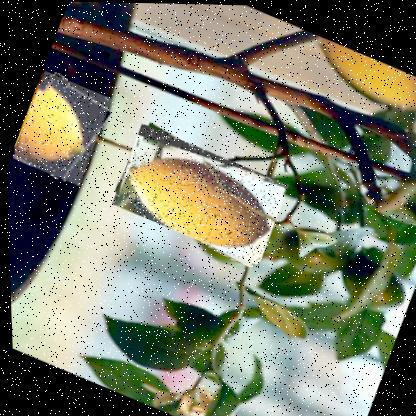lemon: (106, 121, 290, 265), (7, 69, 113, 186)
